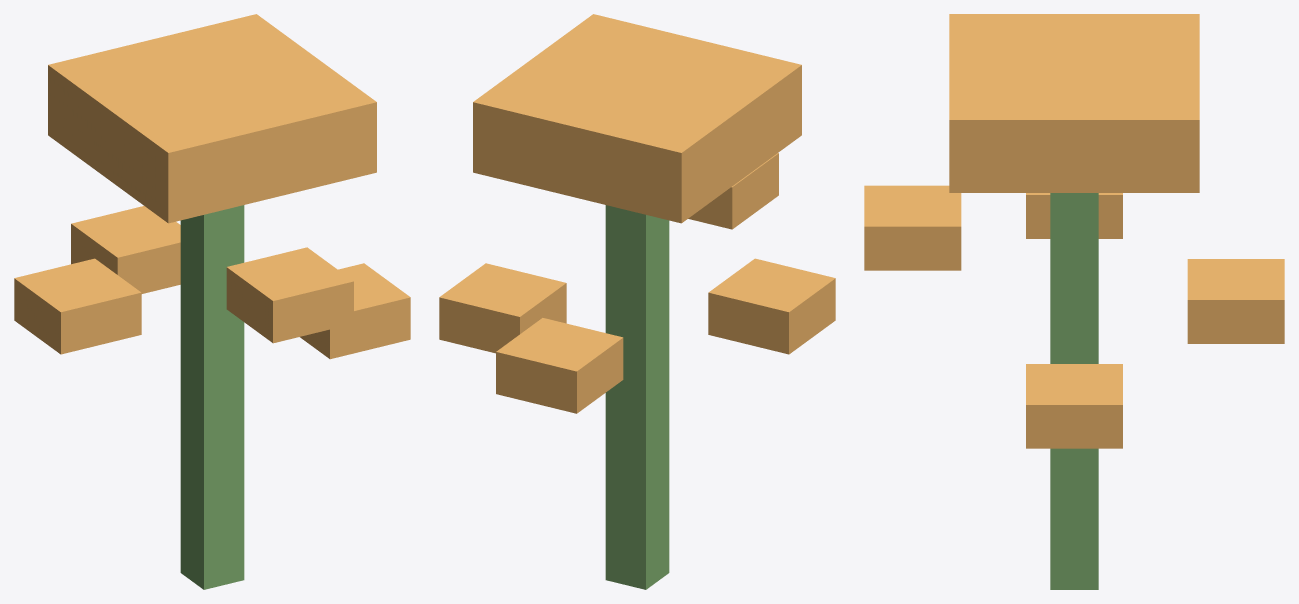
The model's file is Prop_DS_Herb_OverclockThorn_S3.glb.
3 views of the same model, side by side, from view 1: azimuth 30°, elevation 25°; view 2: azimuth 150°, elevation 25°; view 3: azimuth 270°, elevation 25° (orthographic). The views are drawn at different scales.
Parts seen in each view (by area): view 1: Cube.005, Cube, Cube.003, Cube.004, Cube.002, Cube.001; view 2: Cube.005, Cube, Cube.003, Cube.002, Cube.001, Cube.004; view 3: Cube.005, Cube, Cube.004, Cube.002, Cube.001, Cube.003.
Boxes of the visible parts, bbox=[...] form: Cube.005: bbox=[48, 14, 376, 223]; Cube: bbox=[180, 205, 244, 589]; Cube.003: bbox=[14, 258, 141, 354]; Cube.004: bbox=[226, 247, 353, 343]; Cube.002: bbox=[71, 206, 180, 293]; Cube.001: bbox=[300, 263, 410, 359]; Cube.005: bbox=[473, 14, 801, 223]; Cube: bbox=[605, 205, 669, 589]; Cube.003: bbox=[708, 258, 835, 354]; Cube.002: bbox=[496, 318, 623, 413]; Cube.001: bbox=[439, 263, 566, 353]; Cube.004: bbox=[688, 153, 778, 229]; Cube.005: bbox=[949, 14, 1199, 192]; Cube: bbox=[1050, 193, 1098, 589]; Cube.004: bbox=[864, 185, 961, 270]; Cube.002: bbox=[1187, 259, 1284, 343]; Cube.001: bbox=[1026, 364, 1122, 448]; Cube.003: bbox=[1026, 193, 1122, 238].
Size of the model in its own units: 0.52 by 0.7 by 0.52.
